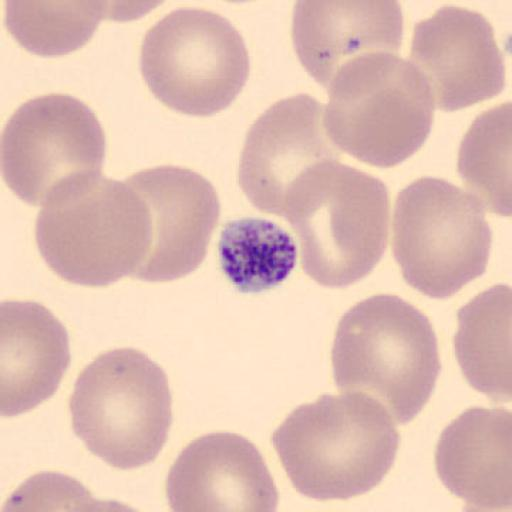Platelet: (214, 214, 302, 296)
RBC: (329, 291, 442, 428), (269, 390, 402, 503), (34, 168, 154, 290), (282, 158, 390, 292), (67, 344, 175, 474), (322, 50, 437, 170), (236, 90, 340, 220), (136, 4, 252, 120), (390, 173, 494, 302), (116, 163, 222, 286), (0, 90, 108, 210), (289, 1, 406, 95), (407, 4, 507, 112), (165, 430, 280, 512), (2, 298, 72, 419), (434, 403, 512, 511), (452, 281, 512, 404), (455, 99, 512, 220), (4, 0, 108, 59), (0, 468, 132, 511), (0, 479, 166, 512), (105, 0, 231, 23), (57, 496, 166, 512), (105, 0, 177, 23)
